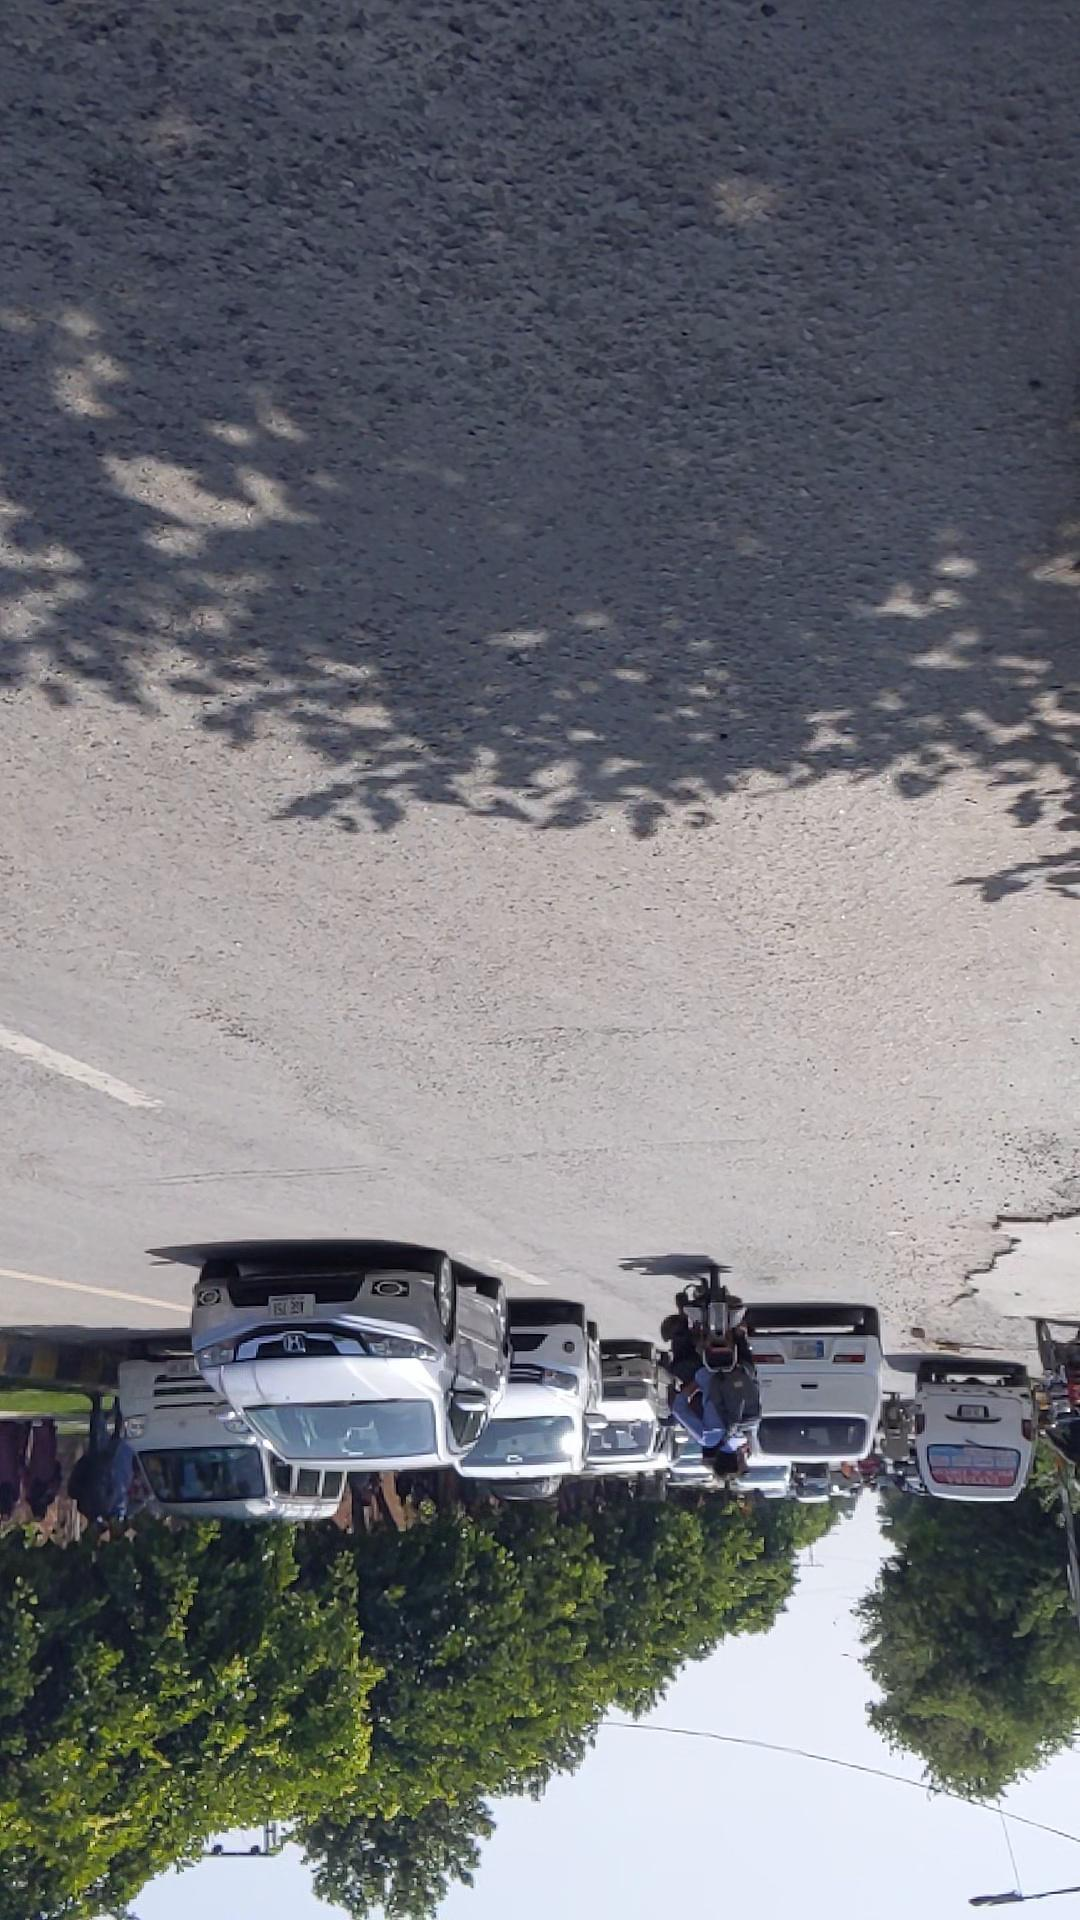windshield: (638, 458, 847, 529)
